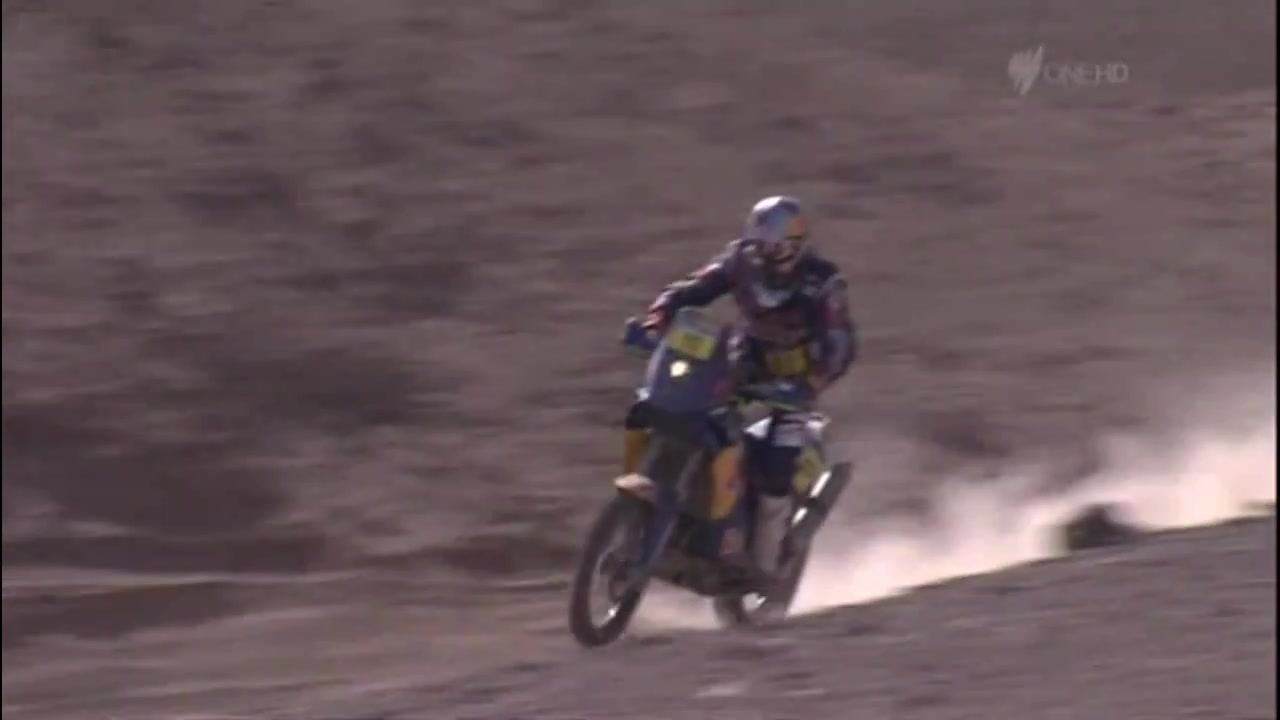motorbike: (567, 319, 850, 654)
